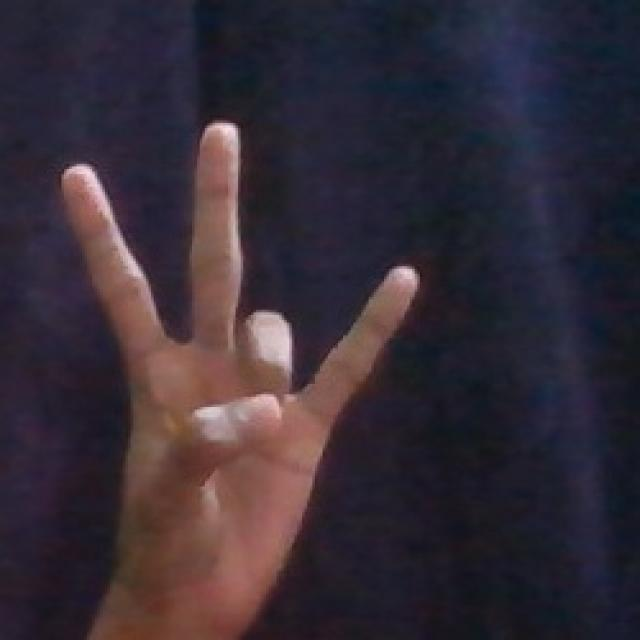Numeric-7: (57, 114, 426, 606)
